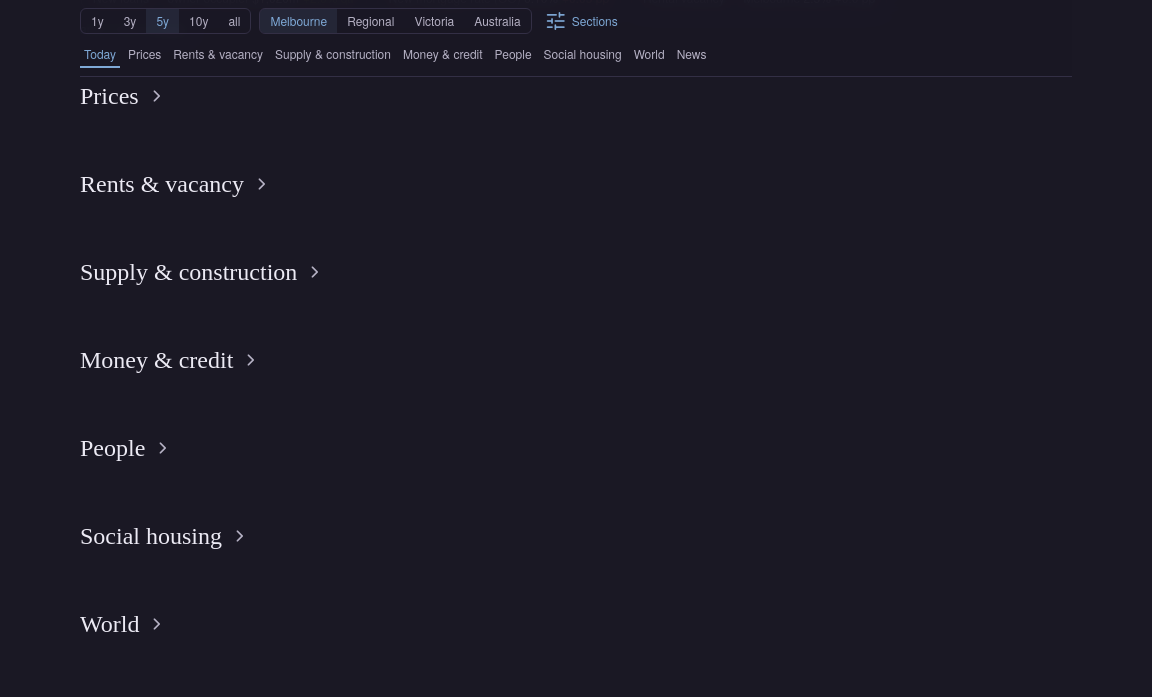
Test case: collapsible sections › toggling a section header mounts its body and flips aria-expanded
(page scrolled)
Click the 2nd button "Money & credit" at (172, 360), box [80,344,263,376]
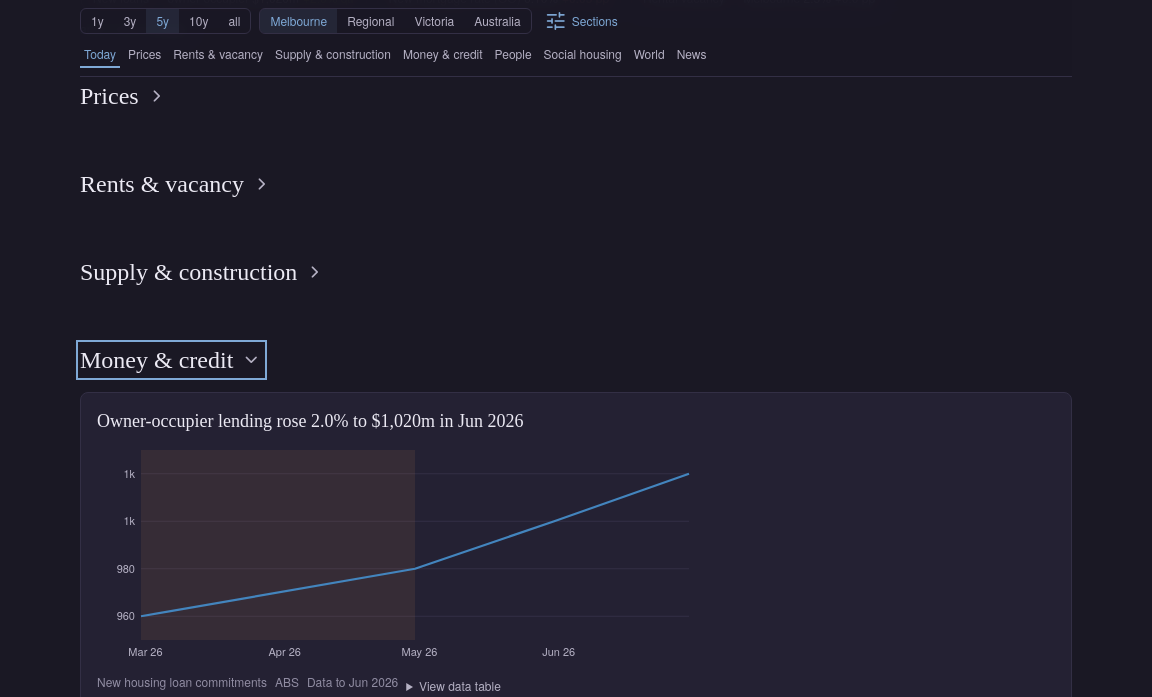
Now the 2nd button "Money & credit" is expanded
Click the 2nd button "Money & credit" at (172, 360), box [80,344,263,376]
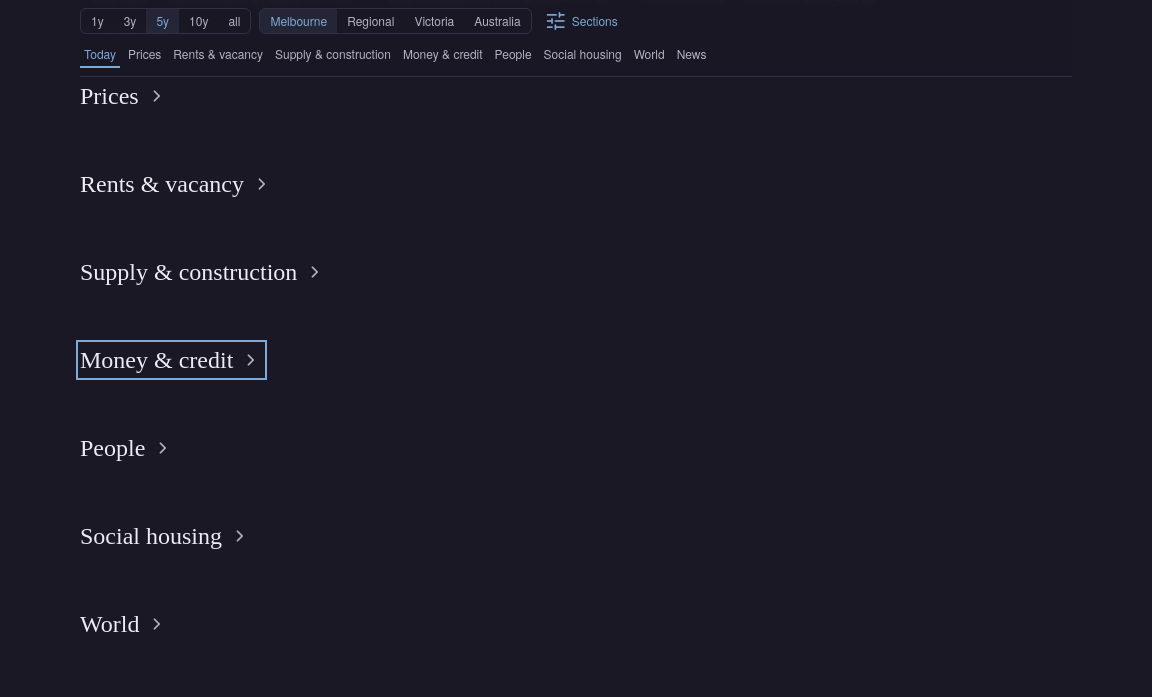
Now the 2nd button "Money & credit" is collapsed, box [80,344,263,376]
